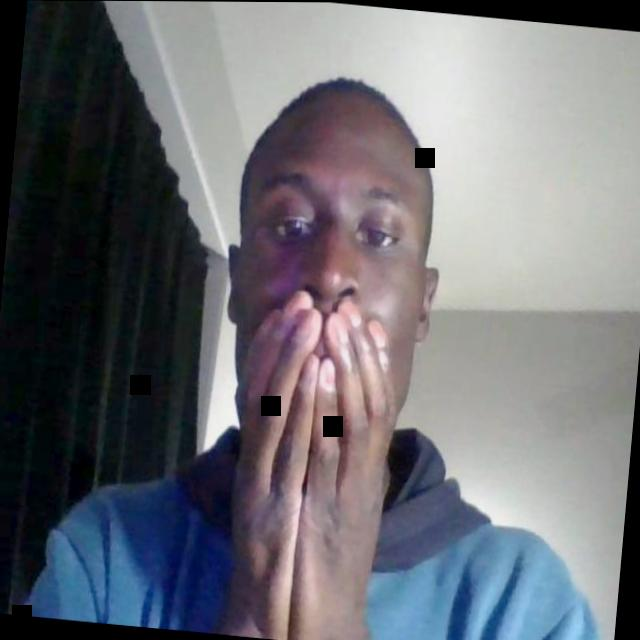NO-Mask: (225, 143, 436, 430)
